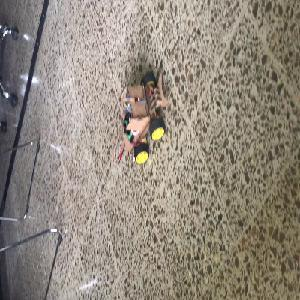Robot: (117, 72, 169, 165)
